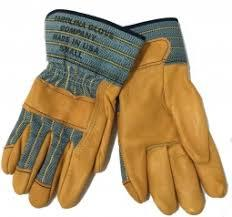gloves: (1, 10, 145, 210), (109, 17, 229, 216)
